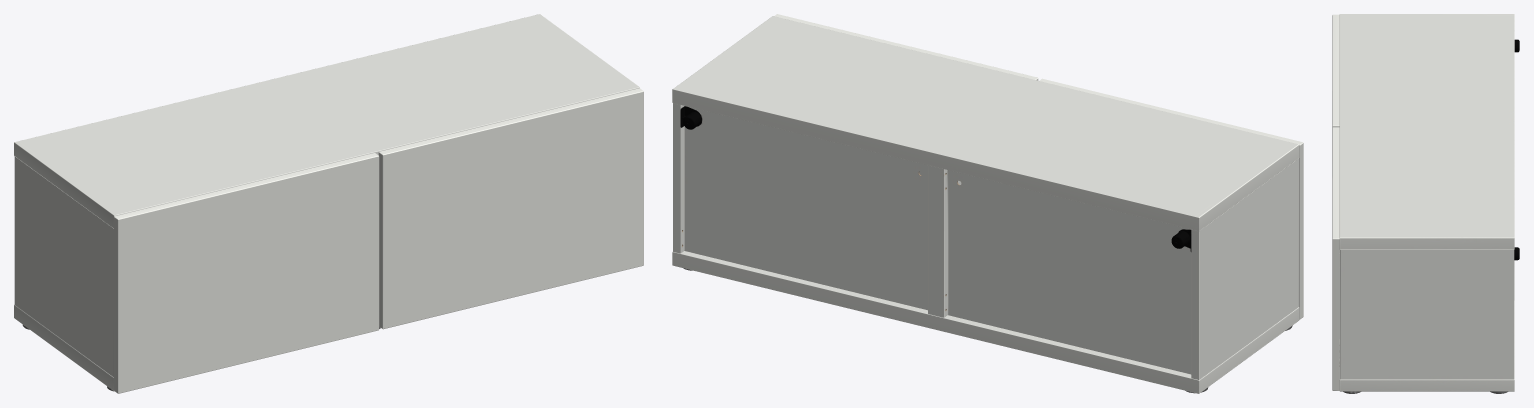
File: besta_szafka_z_drzwiczkami_79047429.glb
3 views of the same model, side by side, from view 1: azimuth 30°, elevation 25°; view 2: azimuth 150°, elevation 25°; view 3: azimuth 270°, elevation 25° (orthographic). The views are drawn at different scales.
Visible parts, largest first — view 1: besta_szafka_z_drzwiczkami_79047429; view 2: besta_szafka_z_drzwiczkami_79047429; view 3: besta_szafka_z_drzwiczkami_79047429.
Boxes of the visible parts, box(x1,y1,x2,y2) form: besta_szafka_z_drzwiczkami_79047429: box(14, 14, 643, 393); besta_szafka_z_drzwiczkami_79047429: box(672, 14, 1303, 393); besta_szafka_z_drzwiczkami_79047429: box(1332, 14, 1519, 393).
Bounding box in the file's own units: 1.2 × 0.392 × 0.4231.
Materials: 1 (1 with a texture image).
